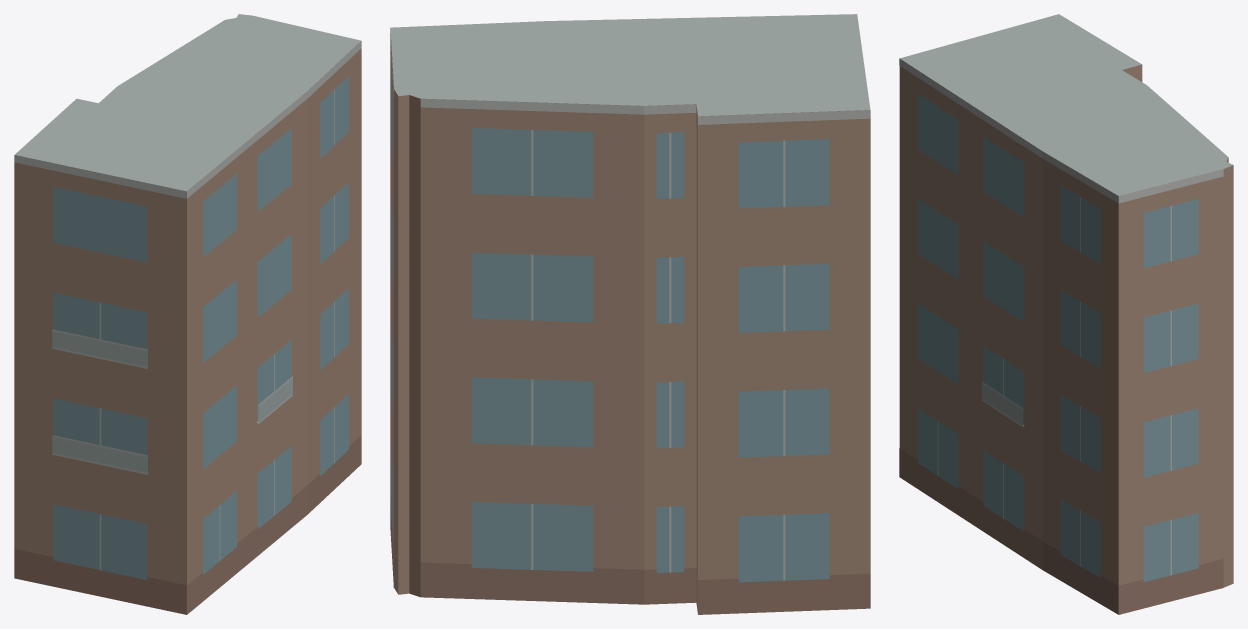
Rendered from survey-upis-32462492.glb.
3 views of the same model, side by side, from view 1: azimuth 30°, elevation 25°; view 2: azimuth 150°, elevation 25°; view 3: azimuth 270°, elevation 25° (orthographic). The views are drawn at different scales.
Parts seen in each view (by area): view 1: survey-upis-32462492.tmp; view 2: survey-upis-32462492.tmp; view 3: survey-upis-32462492.tmp.
Part boxes in pixels (bbox=[...]): survey-upis-32462492.tmp: bbox=[14, 14, 361, 614]; survey-upis-32462492.tmp: bbox=[390, 14, 870, 614]; survey-upis-32462492.tmp: bbox=[899, 14, 1233, 614].
Size of the model in its own units: 12.97 by 13.9 by 10.05.
